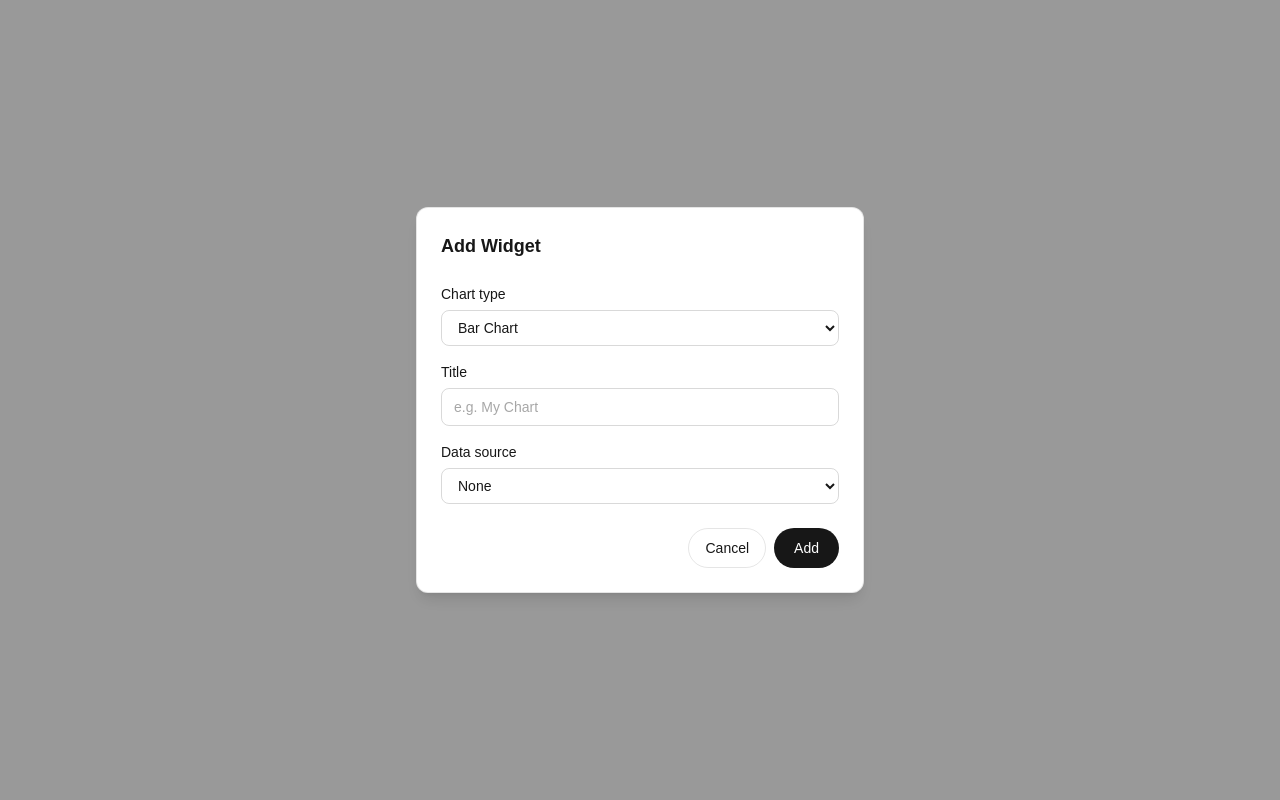
AddWidgetDialog › 境界値: key によるリセット（FEAT-BF-004） › エラーが発生した後に再マウントするとエラーメッセージが消える
エラーを発生させる
Click the button "Add".
click(807, 548)  # box [774,528,839,568]
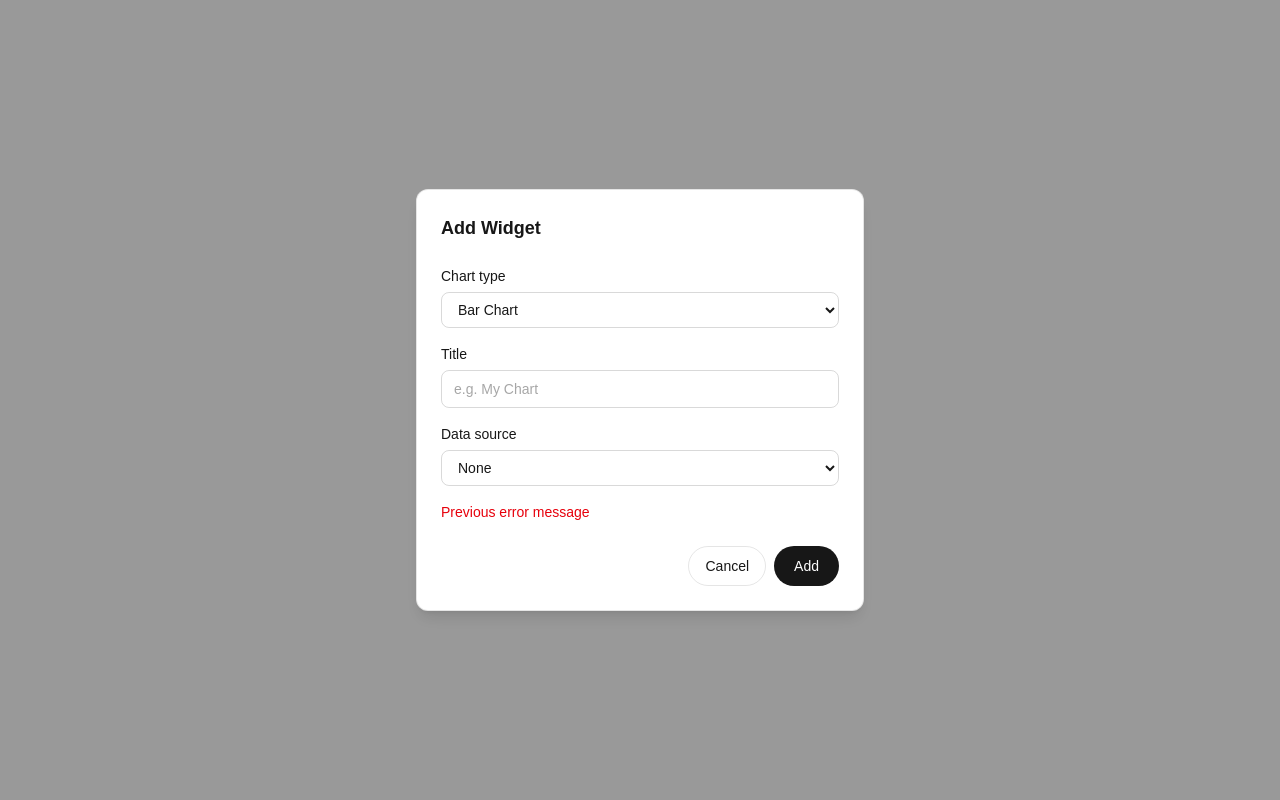
Expected: the text "Previous error message" is shown, [441,504,590,520]
